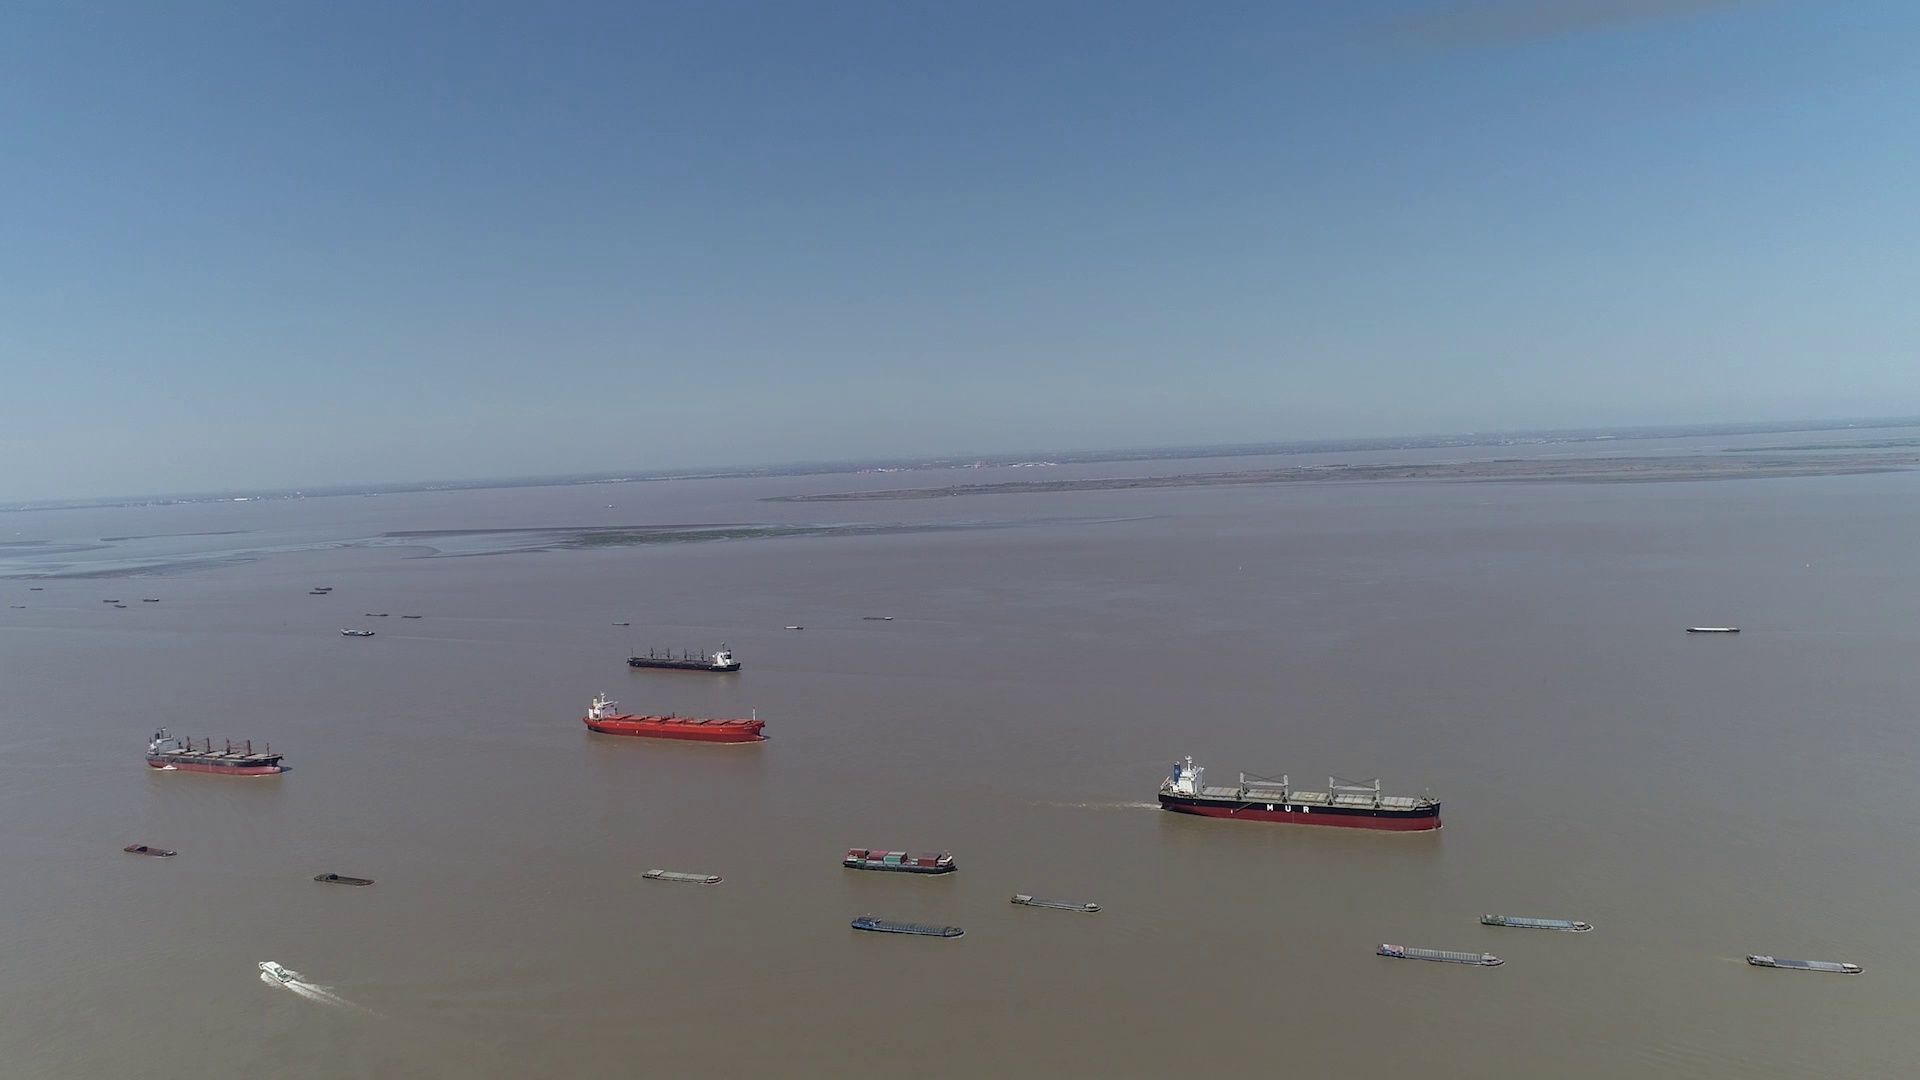ship: (1156, 754, 1443, 831), (583, 694, 765, 741), (150, 727, 284, 775), (626, 644, 741, 673), (1377, 942, 1505, 967), (843, 847, 957, 873), (851, 915, 963, 936), (1745, 953, 1861, 973), (1482, 913, 1589, 932), (1011, 891, 1101, 913), (640, 868, 723, 885), (315, 873, 376, 887), (255, 963, 291, 982), (123, 844, 174, 856), (1689, 625, 1741, 633), (339, 629, 375, 637)
